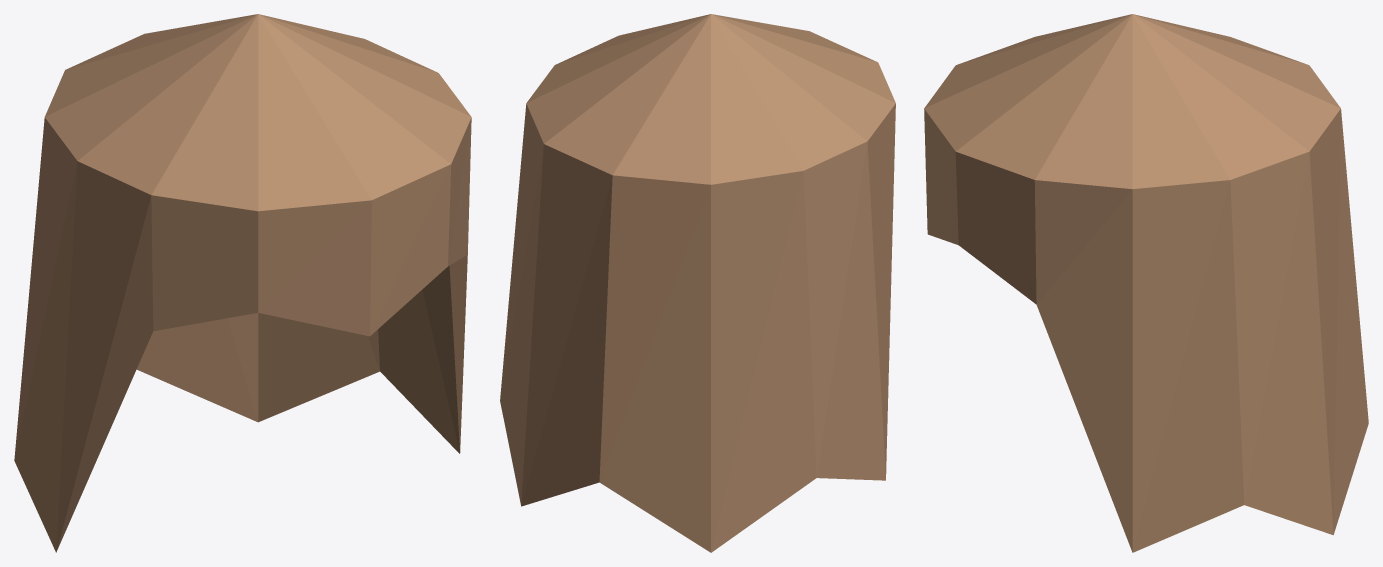
The model's file is hair_origami_nu.glb.
3 renders of one model, left to right at view 1: azimuth 30°, elevation 25°; view 2: azimuth 150°, elevation 25°; view 3: azimuth 270°, elevation 25°, orthographic. The views are drawn at different scales.
Visible parts, largest first — view 1: Hair_Female; view 2: Hair_Female; view 3: Hair_Female.
Part boxes in pixels (bbox=[...]): Hair_Female: bbox=[14, 14, 471, 552]; Hair_Female: bbox=[500, 14, 895, 552]; Hair_Female: bbox=[924, 14, 1368, 552].
Bounding box in the file's own units: 0.246 × 0.3 × 0.256.
